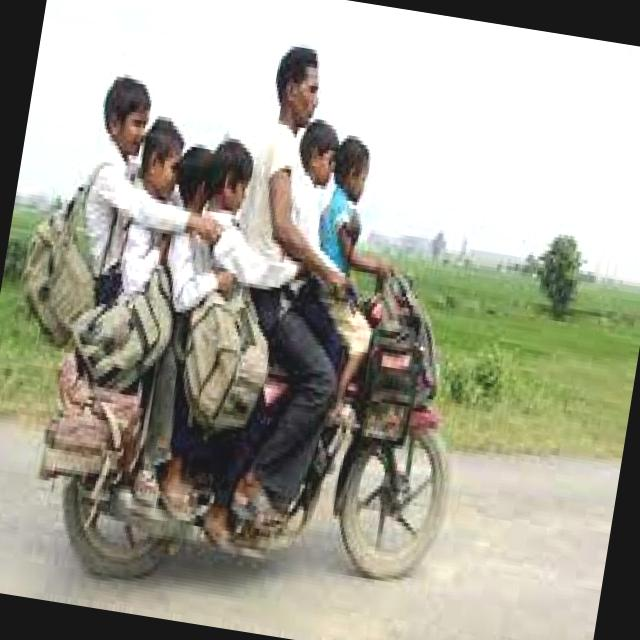motorcycle: (29, 213, 487, 623)
person: (220, 41, 394, 413), (51, 66, 212, 378), (254, 102, 400, 399), (294, 128, 434, 424), (102, 108, 225, 373), (178, 121, 292, 362), (138, 138, 254, 374)
rider_region: (11, 11, 518, 628)
